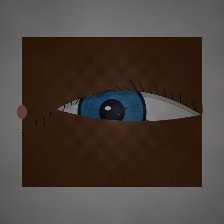hemorrhage_spot: (80, 94, 169, 165)
